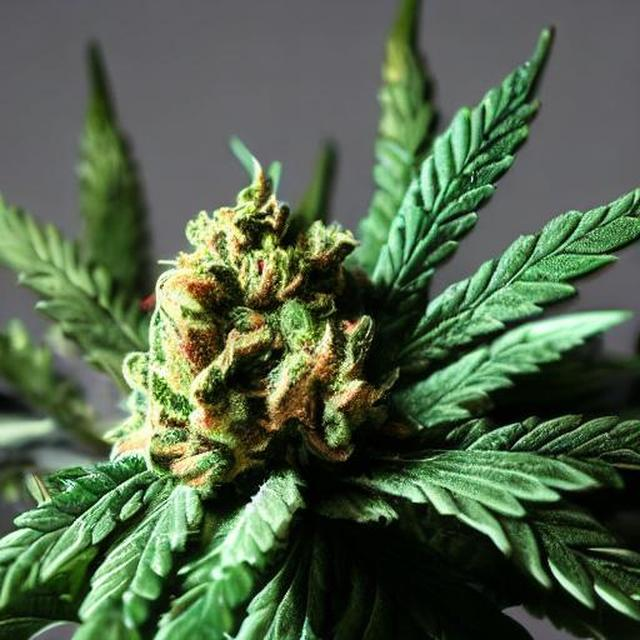Marijuana Plant: (73, 124, 495, 639)
